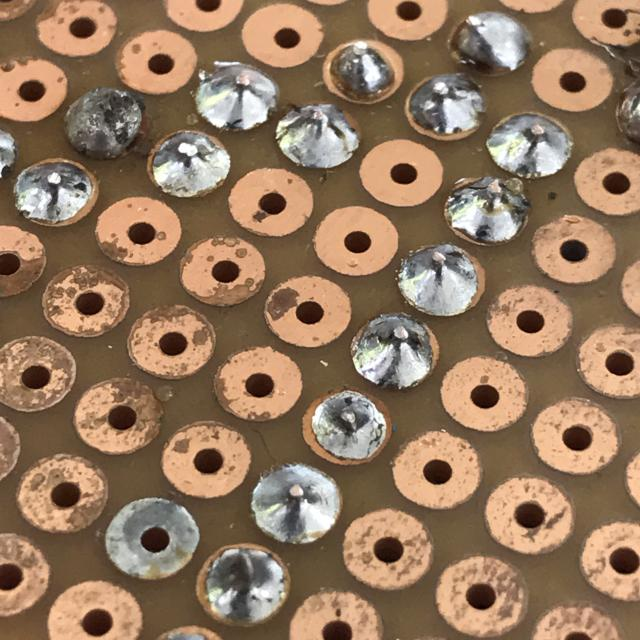good: (243, 452, 351, 554), (186, 54, 286, 140)
pad_less: (186, 537, 298, 636), (293, 376, 398, 471), (390, 235, 493, 323), (342, 308, 446, 395), (437, 170, 537, 252), (8, 151, 104, 235), (141, 123, 239, 205), (316, 31, 412, 111), (400, 68, 492, 148)
